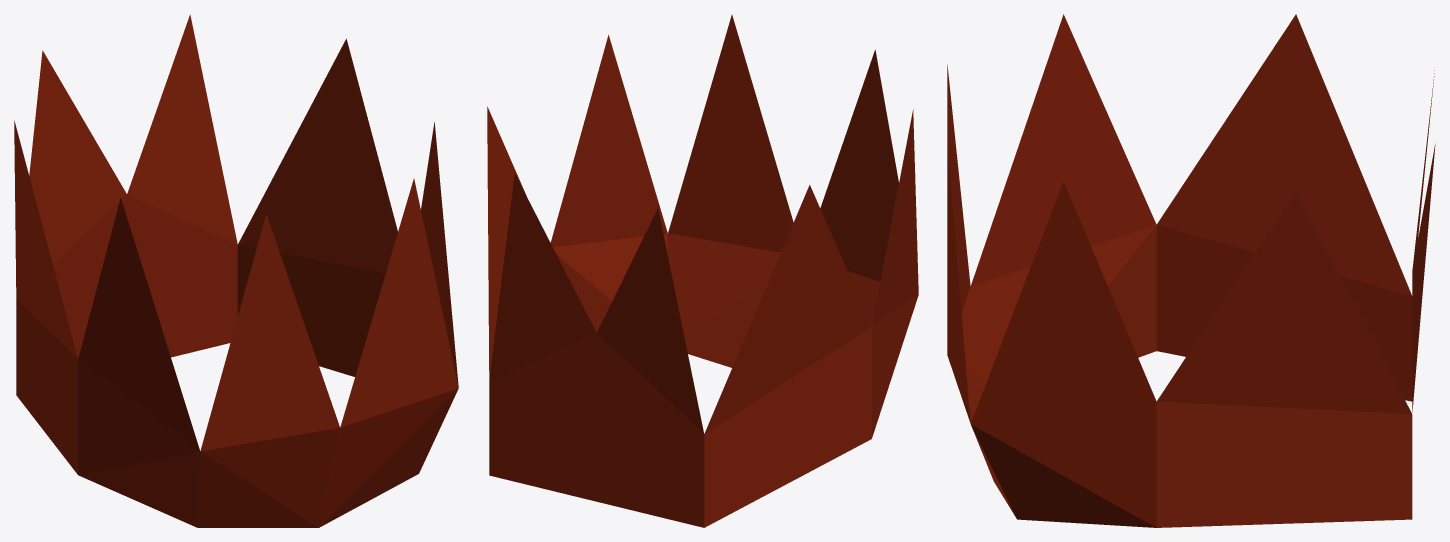
Rendered from npc_world_megan_1.obj.
3 views of the same model, side by side, from view 1: azimuth 30°, elevation 25°; view 2: azimuth 150°, elevation 25°; view 3: azimuth 270°, elevation 25° (orthographic). The views are drawn at different scales.
Bounding box in the file's own units: 0.1406 × 0.1406 × 0.1641.
